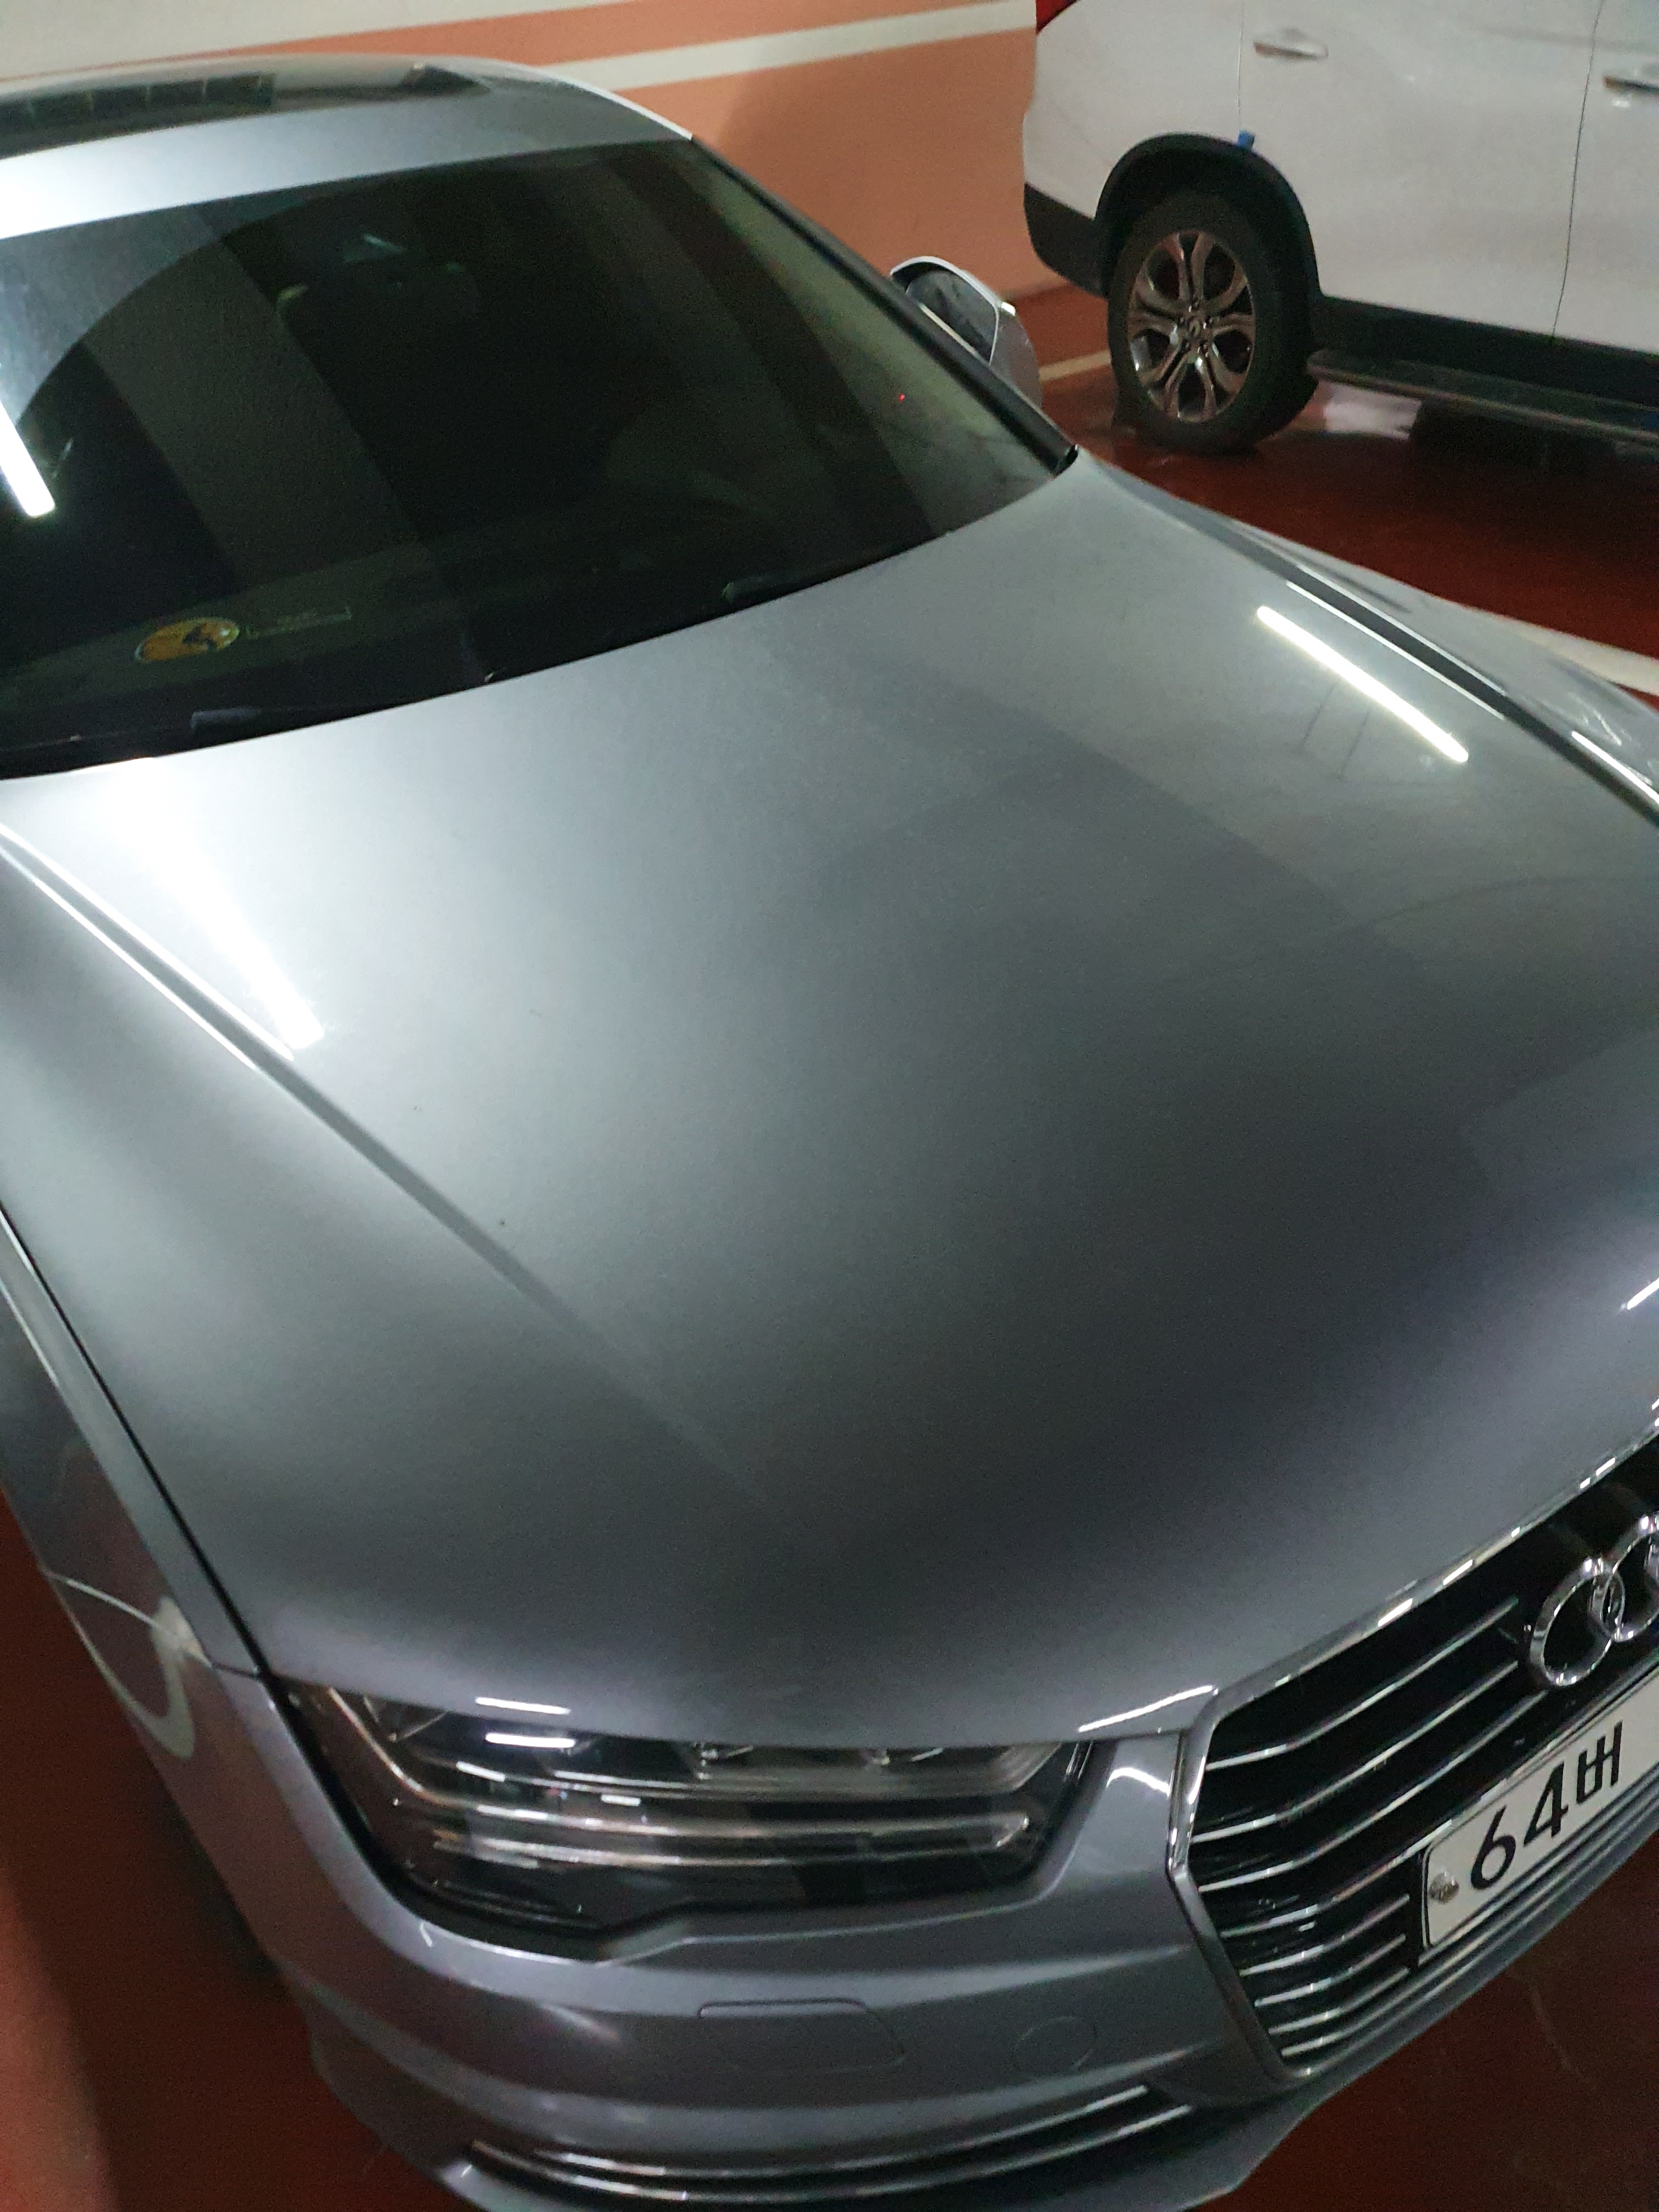disabled_parking: (124, 613, 256, 660)
